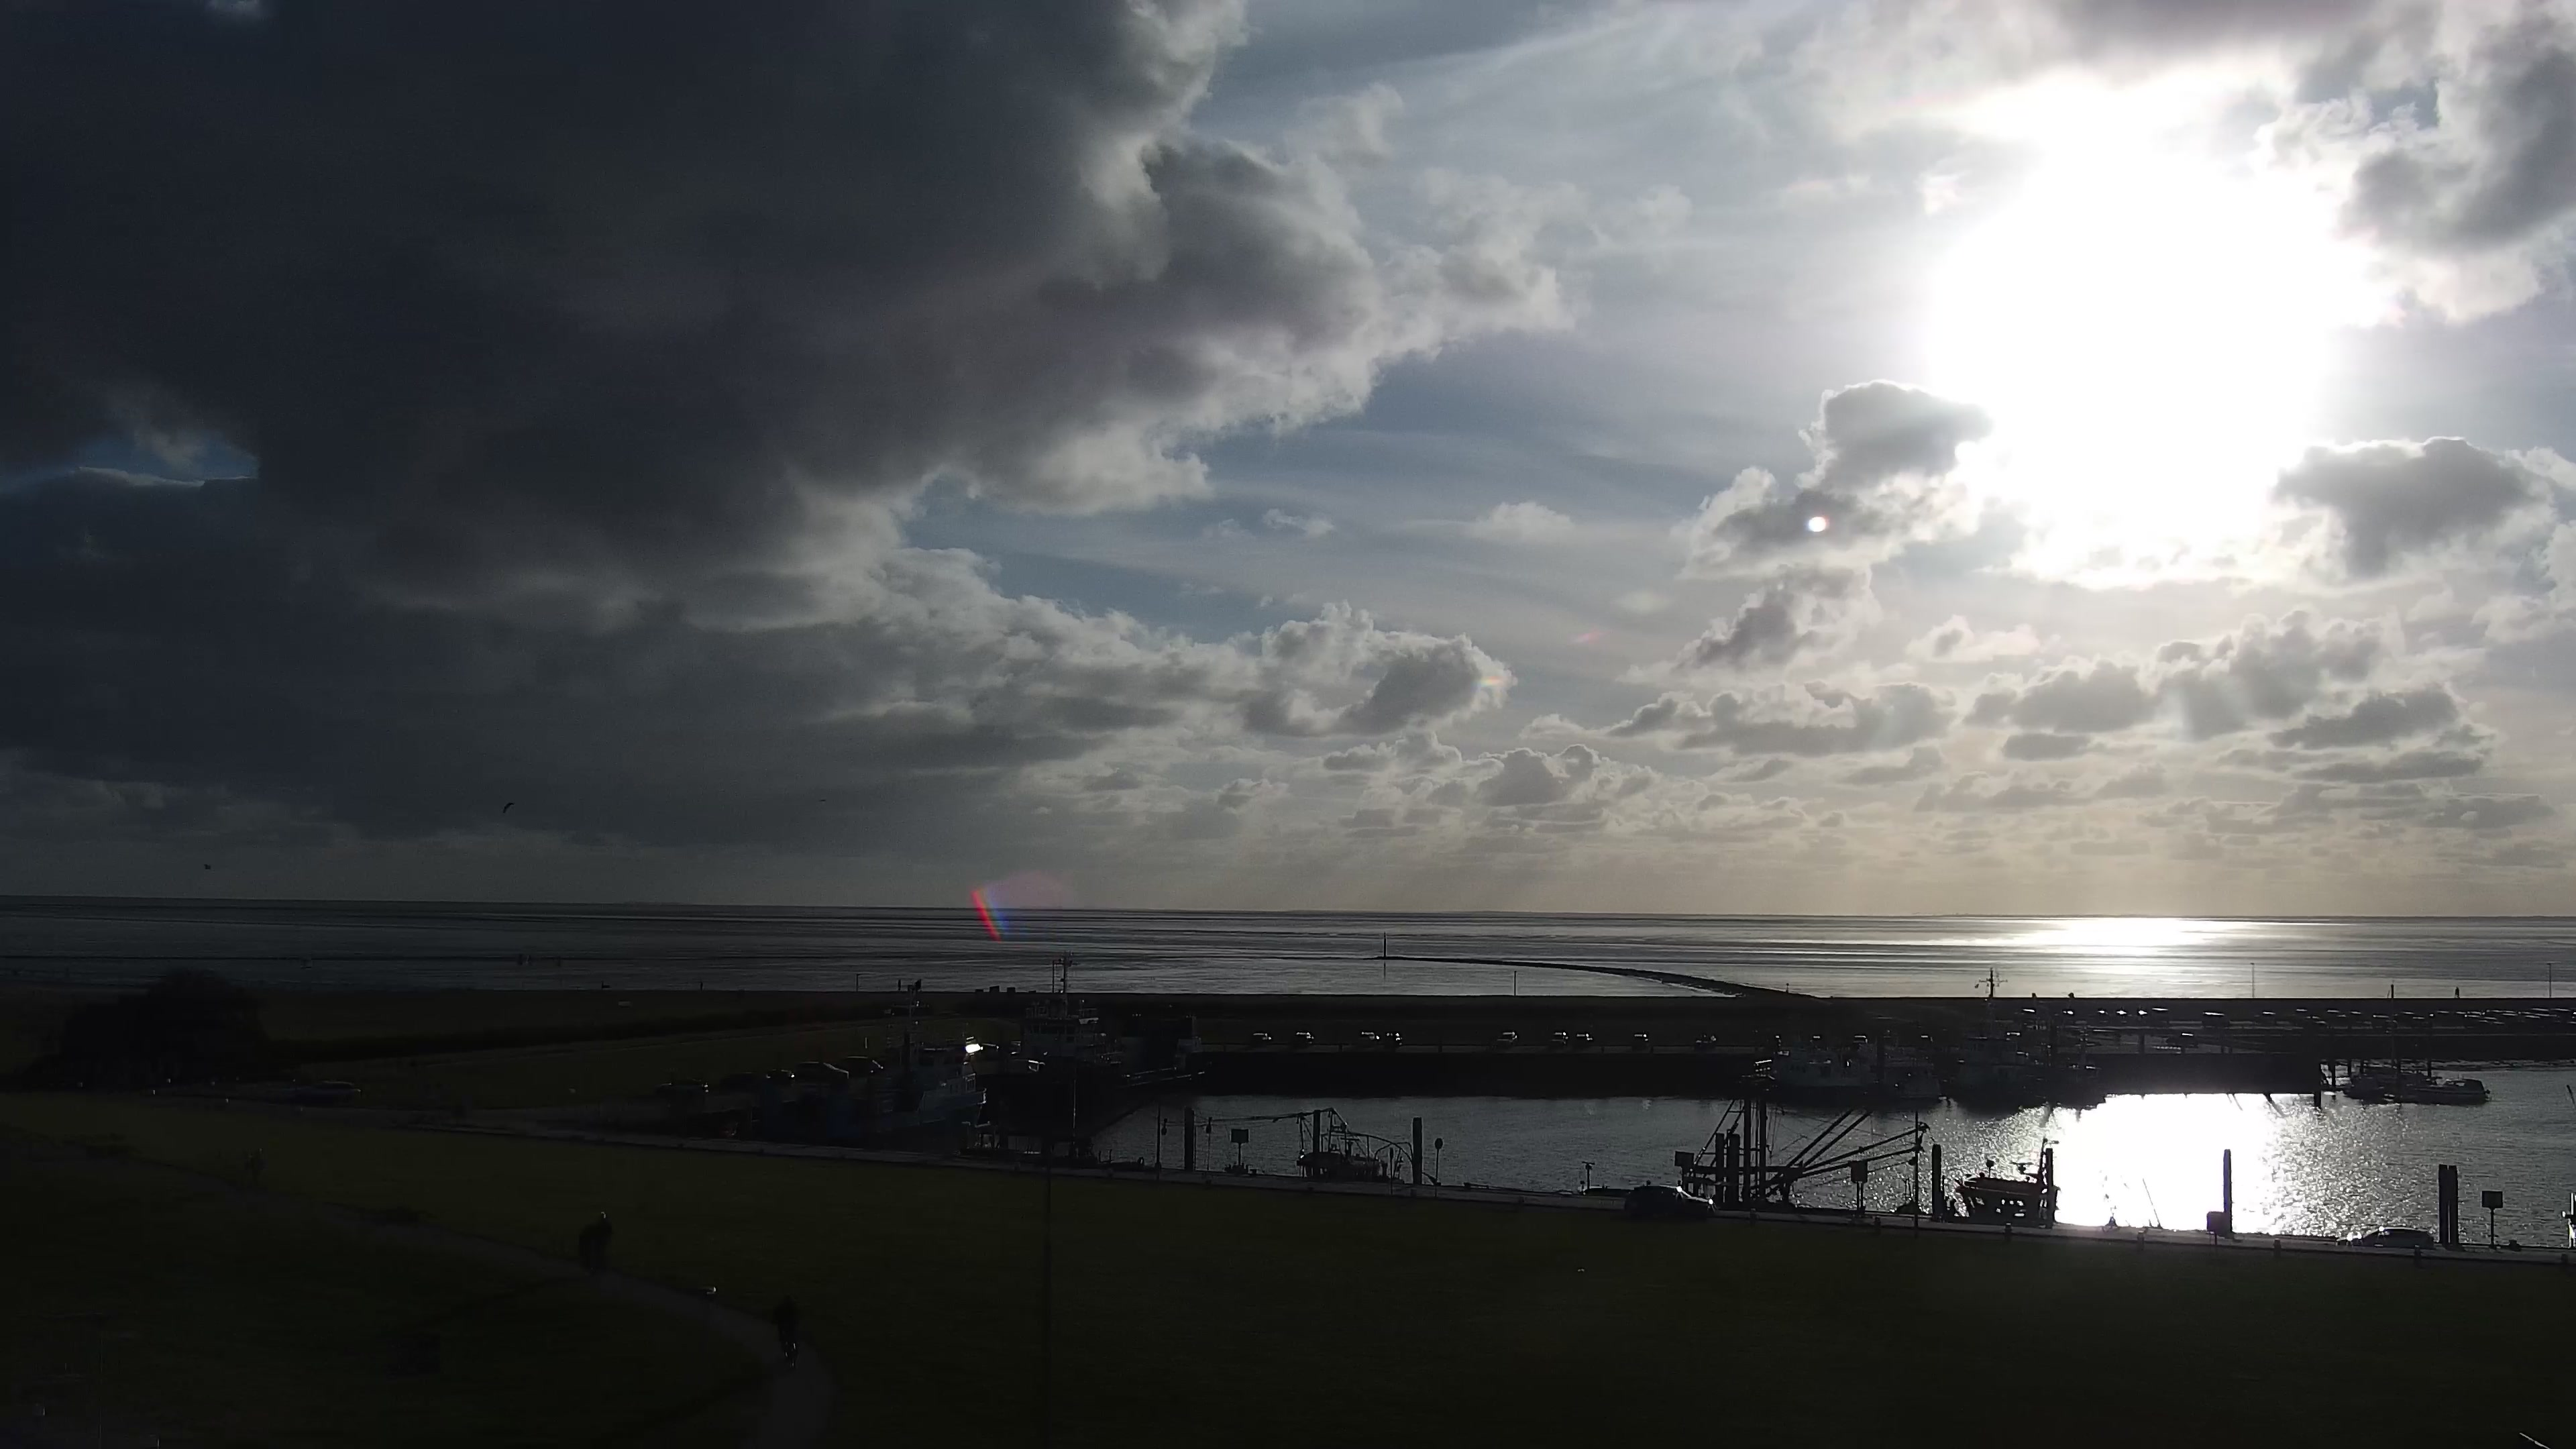human: (772, 1293, 801, 1349), (594, 1211, 612, 1272), (2453, 985, 2460, 1000), (699, 979, 704, 990)
land: (1622, 1183, 1717, 1220), (2335, 1226, 2435, 1250), (298, 1079, 362, 1104), (656, 1076, 710, 1096), (795, 1061, 848, 1081), (845, 1055, 883, 1073), (781, 1330, 798, 1367), (2201, 1012, 2230, 1029), (764, 1067, 794, 1083), (2175, 1032, 2198, 1049), (1497, 1030, 1518, 1046), (2149, 1007, 2171, 1024), (2370, 1014, 2397, 1028), (2254, 1011, 2277, 1026), (2411, 1014, 2432, 1029), (1249, 1030, 1271, 1043), (1693, 1033, 1717, 1046), (2303, 1015, 2327, 1029), (2483, 1014, 2507, 1028), (1550, 1031, 1569, 1046), (2538, 1013, 2563, 1026), (1359, 1030, 1380, 1044), (2398, 1008, 2418, 1023), (2520, 1015, 2543, 1030), (2462, 1014, 2485, 1026), (1631, 1033, 1650, 1049), (1295, 1031, 1315, 1045), (1385, 1031, 1405, 1046), (1574, 1033, 1593, 1046), (1852, 1034, 1868, 1049), (2333, 1014, 2349, 1029), (2324, 1009, 2341, 1022), (2289, 1008, 2308, 1022), (2347, 1010, 2361, 1025)
sea: (1585, 1059, 2117, 1230), (747, 977, 987, 1149), (973, 949, 1155, 1141), (1947, 963, 2028, 1099), (1770, 1038, 1863, 1101), (1856, 1041, 1942, 1102), (2411, 1075, 2489, 1101)
